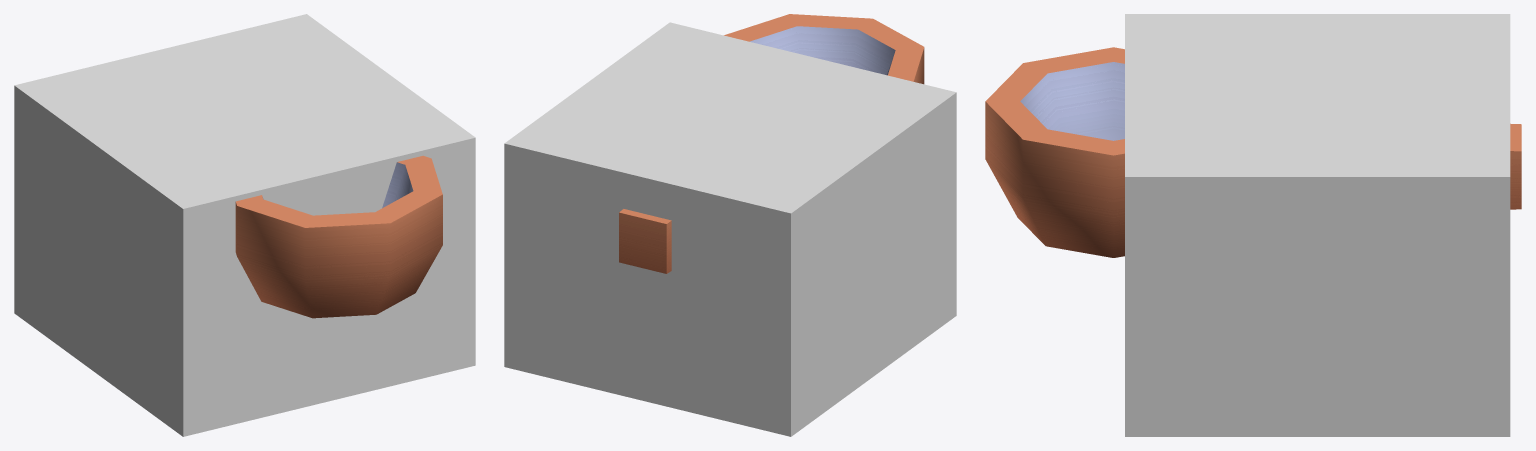
The model's file is base_catapult.glb.
3 renders of one model, left to right at view 1: azimuth 30°, elevation 25°; view 2: azimuth 150°, elevation 25°; view 3: azimuth 270°, elevation 25°, orthographic. The views are drawn at different scales.
Parts seen in each view (by area): view 1: COL_BOX_01.003, catapult_; view 2: COL_BOX_01.003, catapult_; view 3: COL_BOX_01.003, catapult_.
Part boxes in pixels (left/top/right/bottom): COL_BOX_01.003: left=14, top=14, right=475, bottom=436; catapult_: left=235, top=155, right=442, bottom=318; COL_BOX_01.003: left=504, top=22, right=956, bottom=436; catapult_: left=619, top=14, right=924, bottom=273; COL_BOX_01.003: left=1125, top=14, right=1510, bottom=436; catapult_: left=985, top=47, right=1521, bottom=257.
Bounding box in the file's own units: 1.2 × 0.8958 × 1.67.
Materials: 2 (2 with a texture image).
